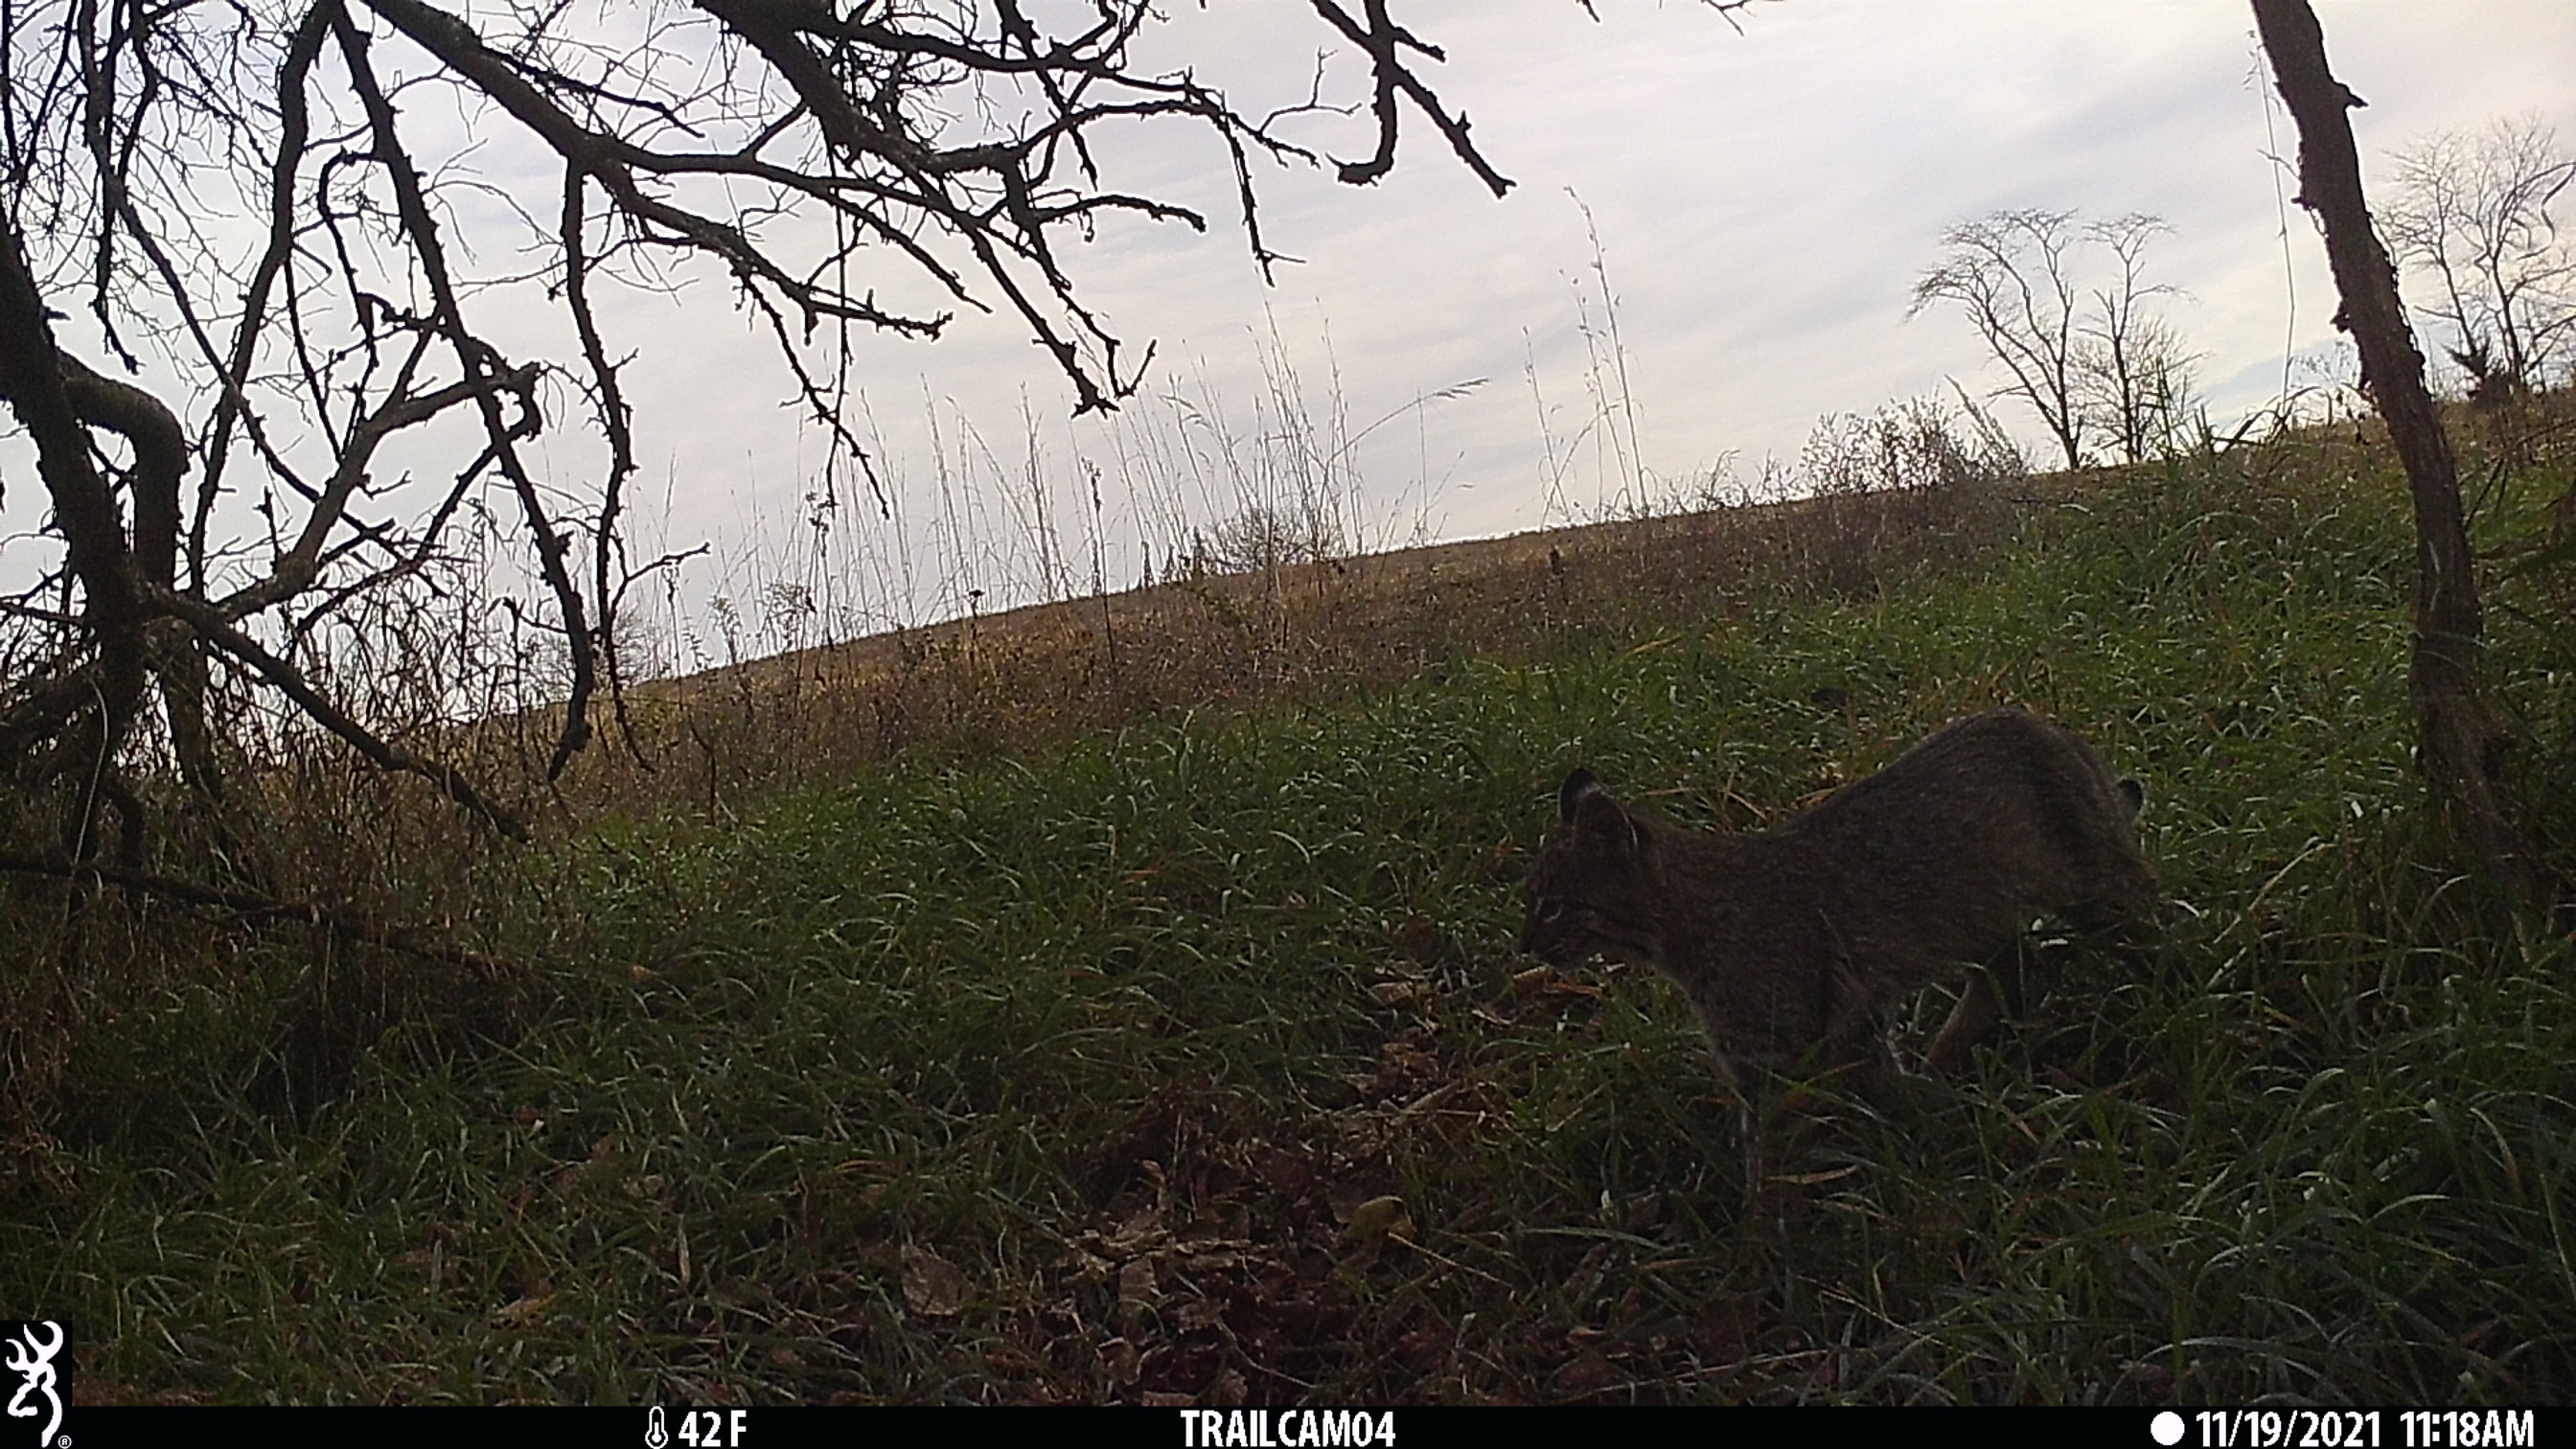Bobcat: (1513, 704, 2151, 1131)
